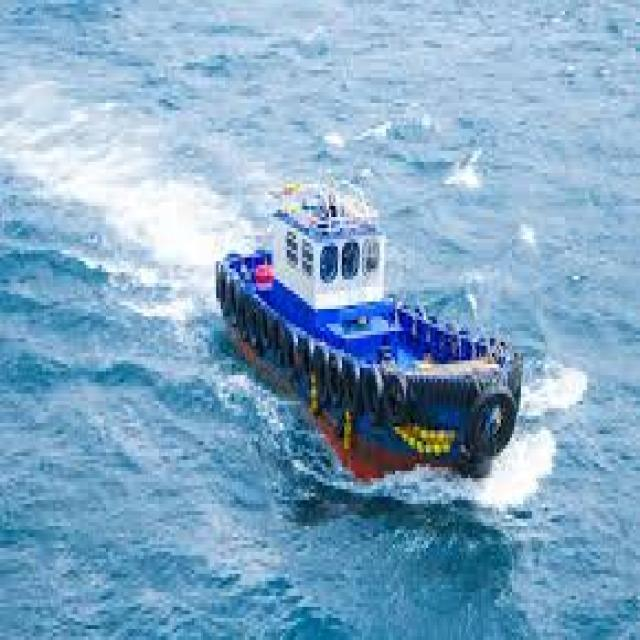Ship: (202, 156, 551, 520)
